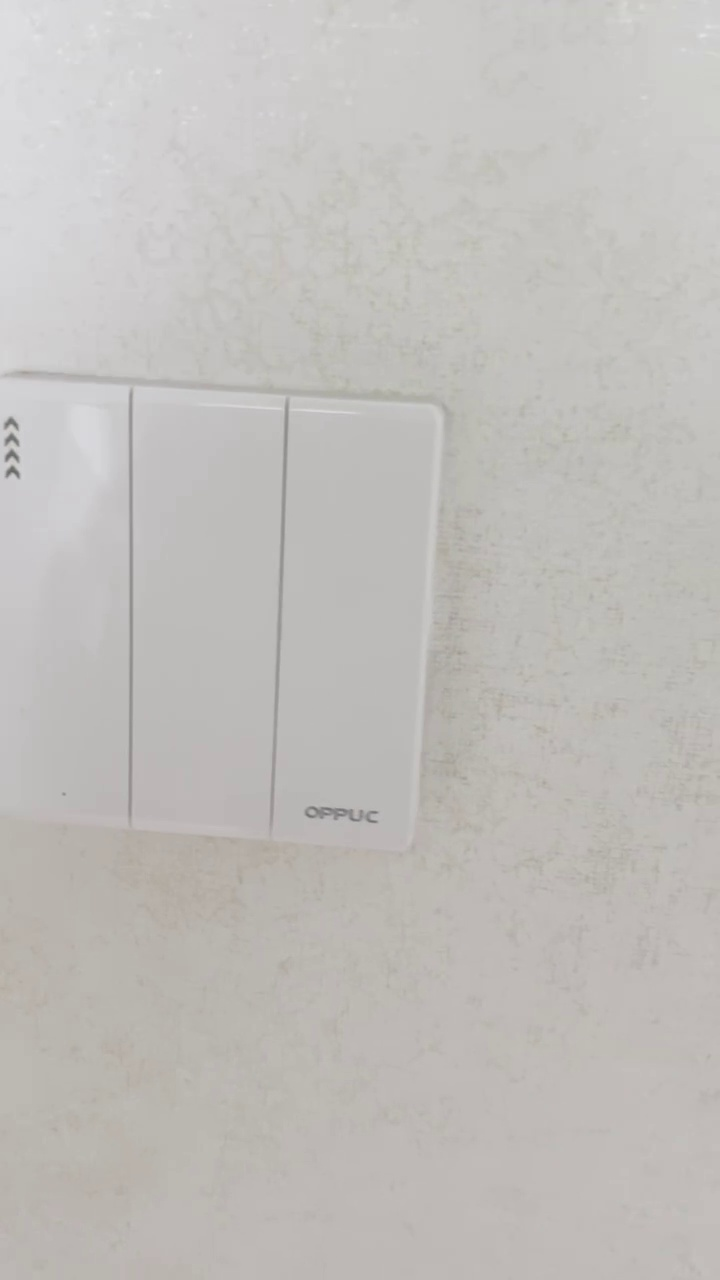button1: (278, 411, 431, 839), (133, 406, 281, 828), (0, 392, 127, 818)
